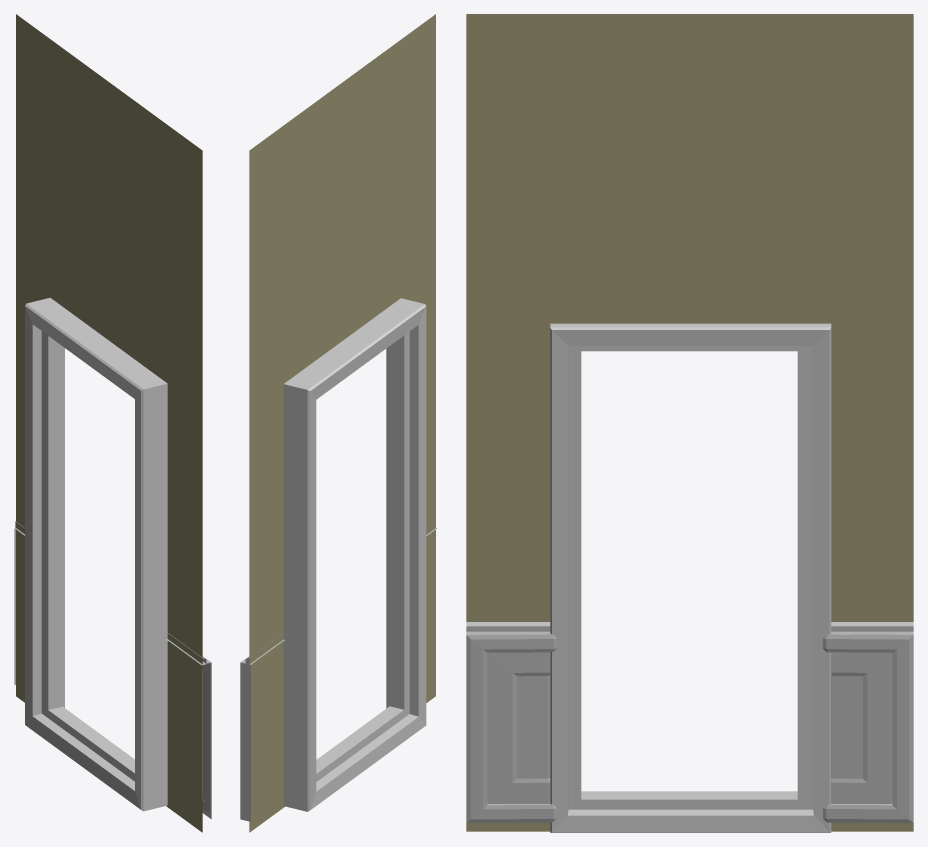
The model's file is WallDoorFrame.fbx.
3 views of the same model, side by side, from view 1: azimuth 30°, elevation 25°; view 2: azimuth 150°, elevation 25°; view 3: azimuth 270°, elevation 25° (orthographic). The views are drawn at different scales.
Parts seen in each view (by area): view 1: WallDoorFrame; view 2: WallDoorFrame; view 3: WallDoorFrame.
Boxes of the visible parts, box(x1,y1,x2,y2) form: WallDoorFrame: box(14, 14, 211, 832); WallDoorFrame: box(240, 14, 436, 832); WallDoorFrame: box(466, 14, 913, 832).
Size of the model in its own units: 0.331 by 6.05 by 3.
